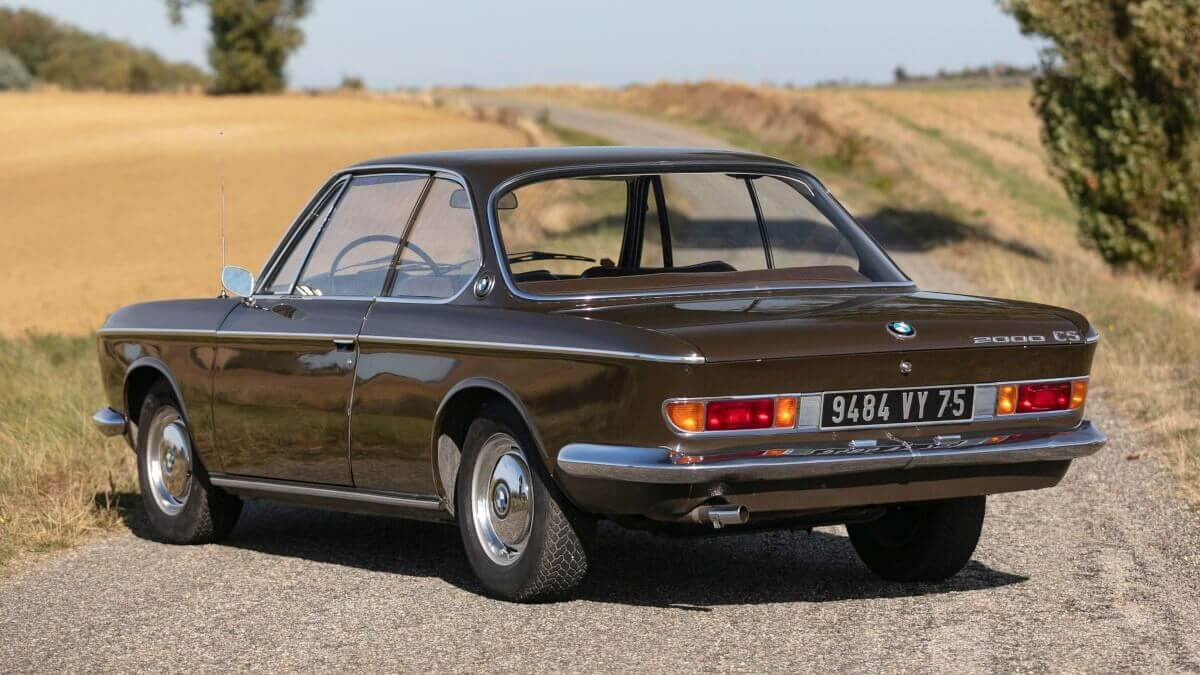car: (79, 137, 1110, 604)
